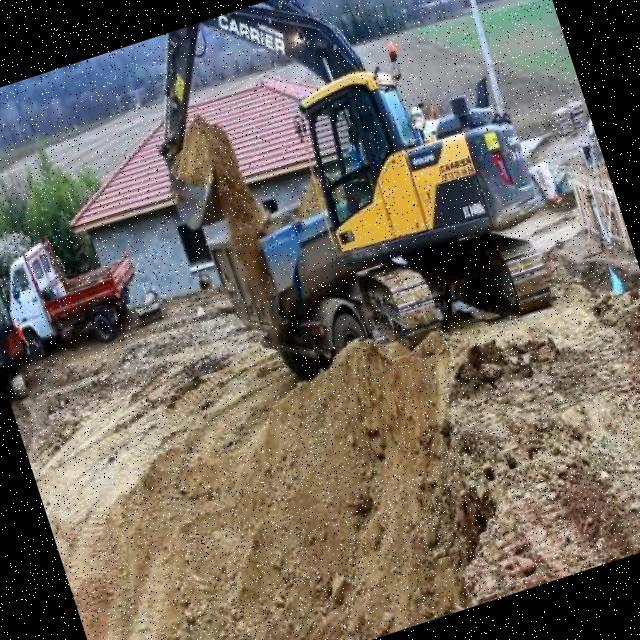Dump Truck: (200, 184, 386, 400), (0, 212, 155, 372)
Excavator: (122, 0, 572, 410), (0, 269, 56, 411)
